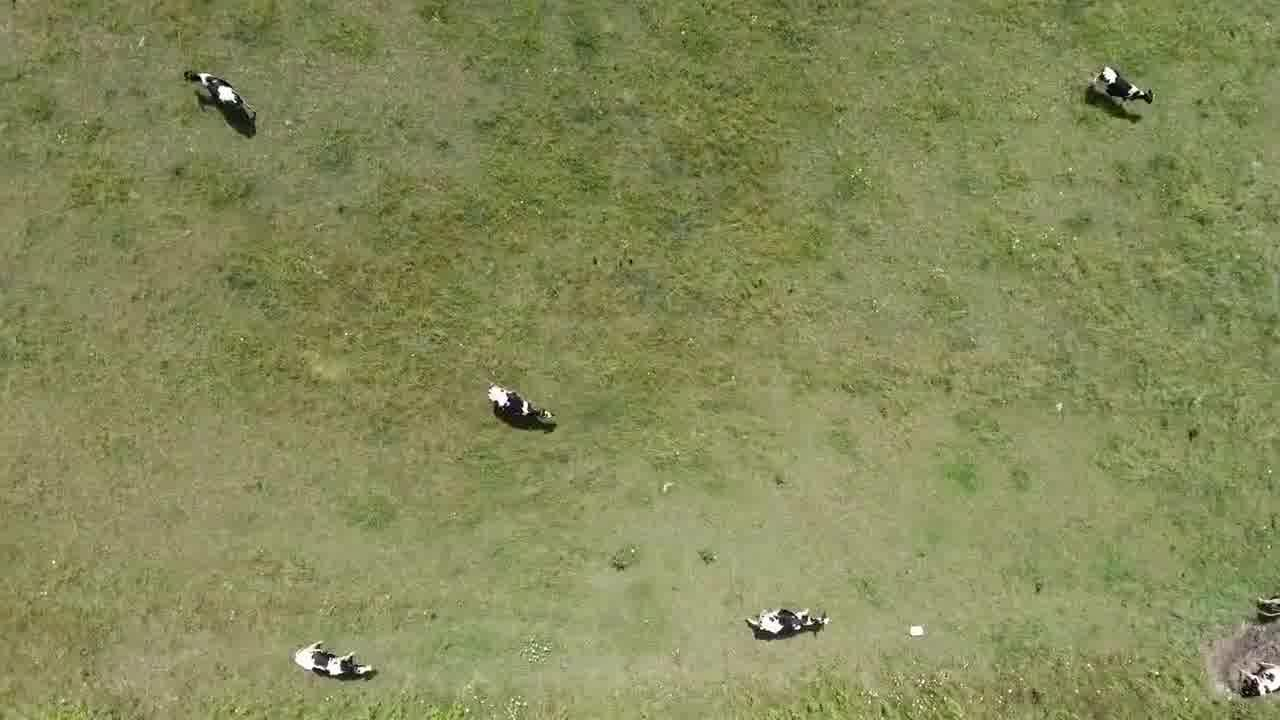cow: (179, 64, 262, 137), (482, 374, 561, 438), (1088, 61, 1158, 124), (288, 635, 376, 684), (744, 604, 833, 644), (1237, 653, 1280, 697)
